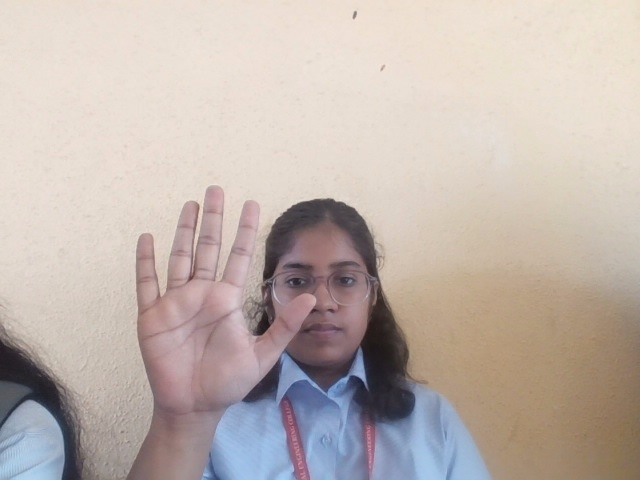Hello: (129, 181, 316, 440)
